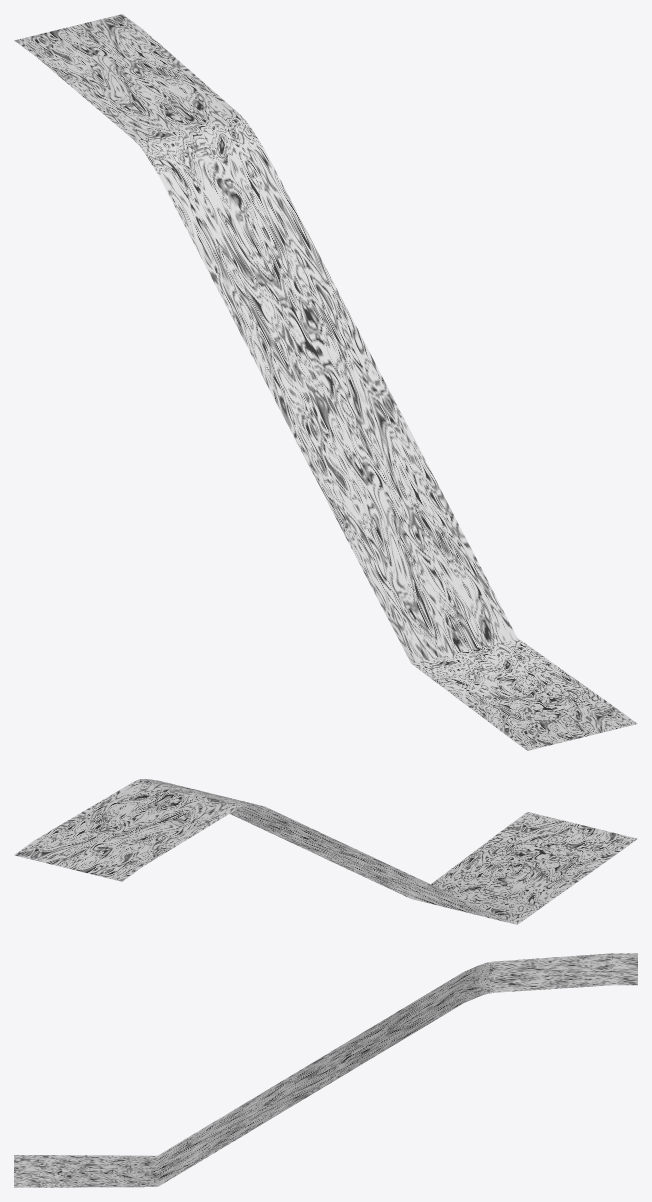
The model's file is k_spkaidan_01.dae.
3 views of the same model, one above another, from view 1: azimuth 30°, elevation 25°; view 2: azimuth 150°, elevation 25°; view 3: azimuth 270°, elevation 25° (orthographic). The views are drawn at different scales.
Parts seen in each view (by area): view 1: Shape 0; view 2: Shape 0; view 3: Shape 0.
Part boxes in pixels (x1,y1,x2,y2): Shape 0: (14, 14, 637, 750); Shape 0: (14, 779, 637, 924); Shape 0: (14, 953, 637, 1187).
Bounding box in the file's own units: 520 × 1501 × 4200.
